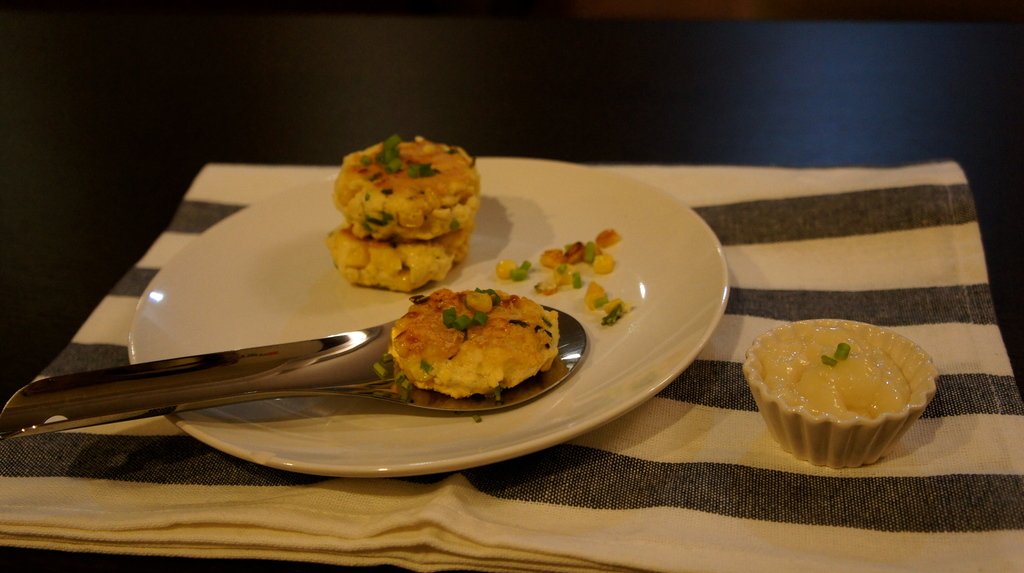plate: (126, 157, 728, 478)
